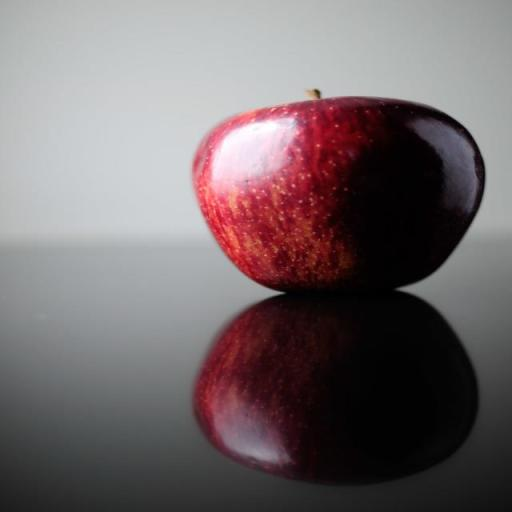fruit: (193, 97, 483, 291), (195, 292, 476, 483)
